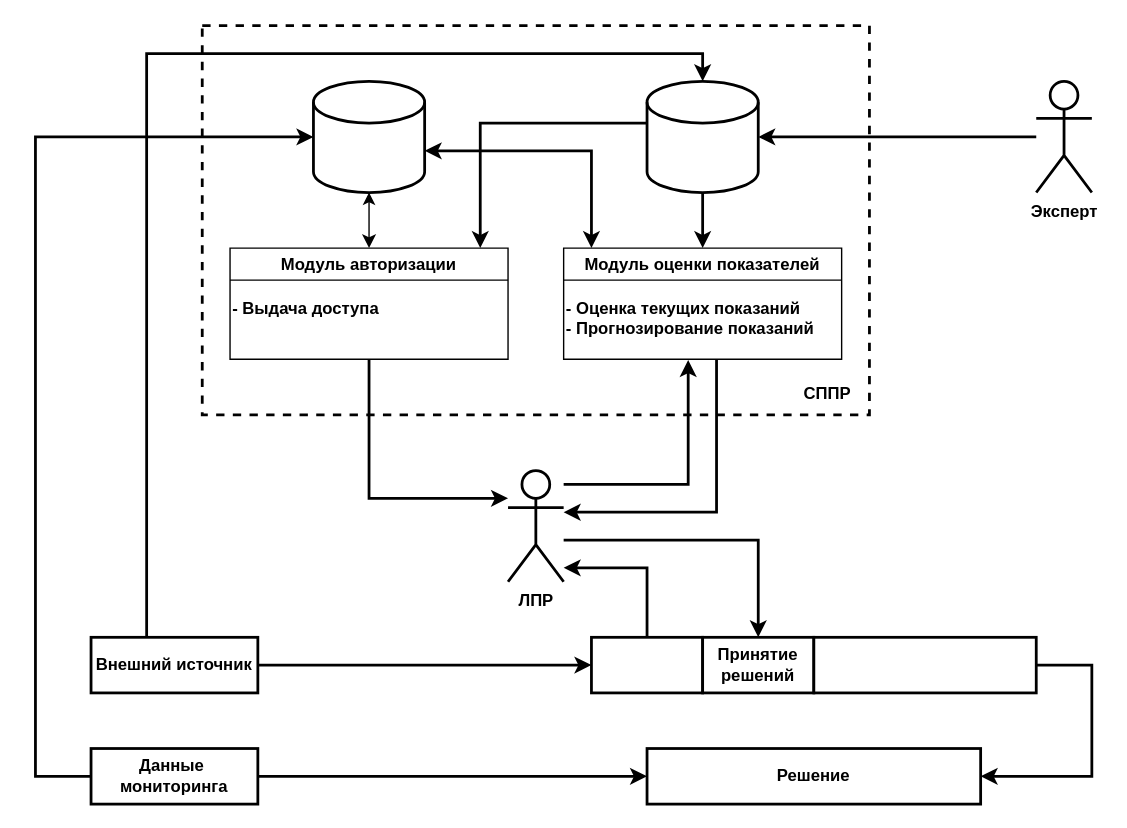
Some shapes in this 1127 by 828 pixel diagram are drawn without their labels. The box of each missing label's shape, as (x1, y1, x2, y2) in pixels:
Анализ: (589, 635, 703, 694)
База данных: (311, 79, 425, 193)
База знаний: (645, 79, 759, 193)
Выбор управляющего воздействия: (812, 635, 1037, 694)
